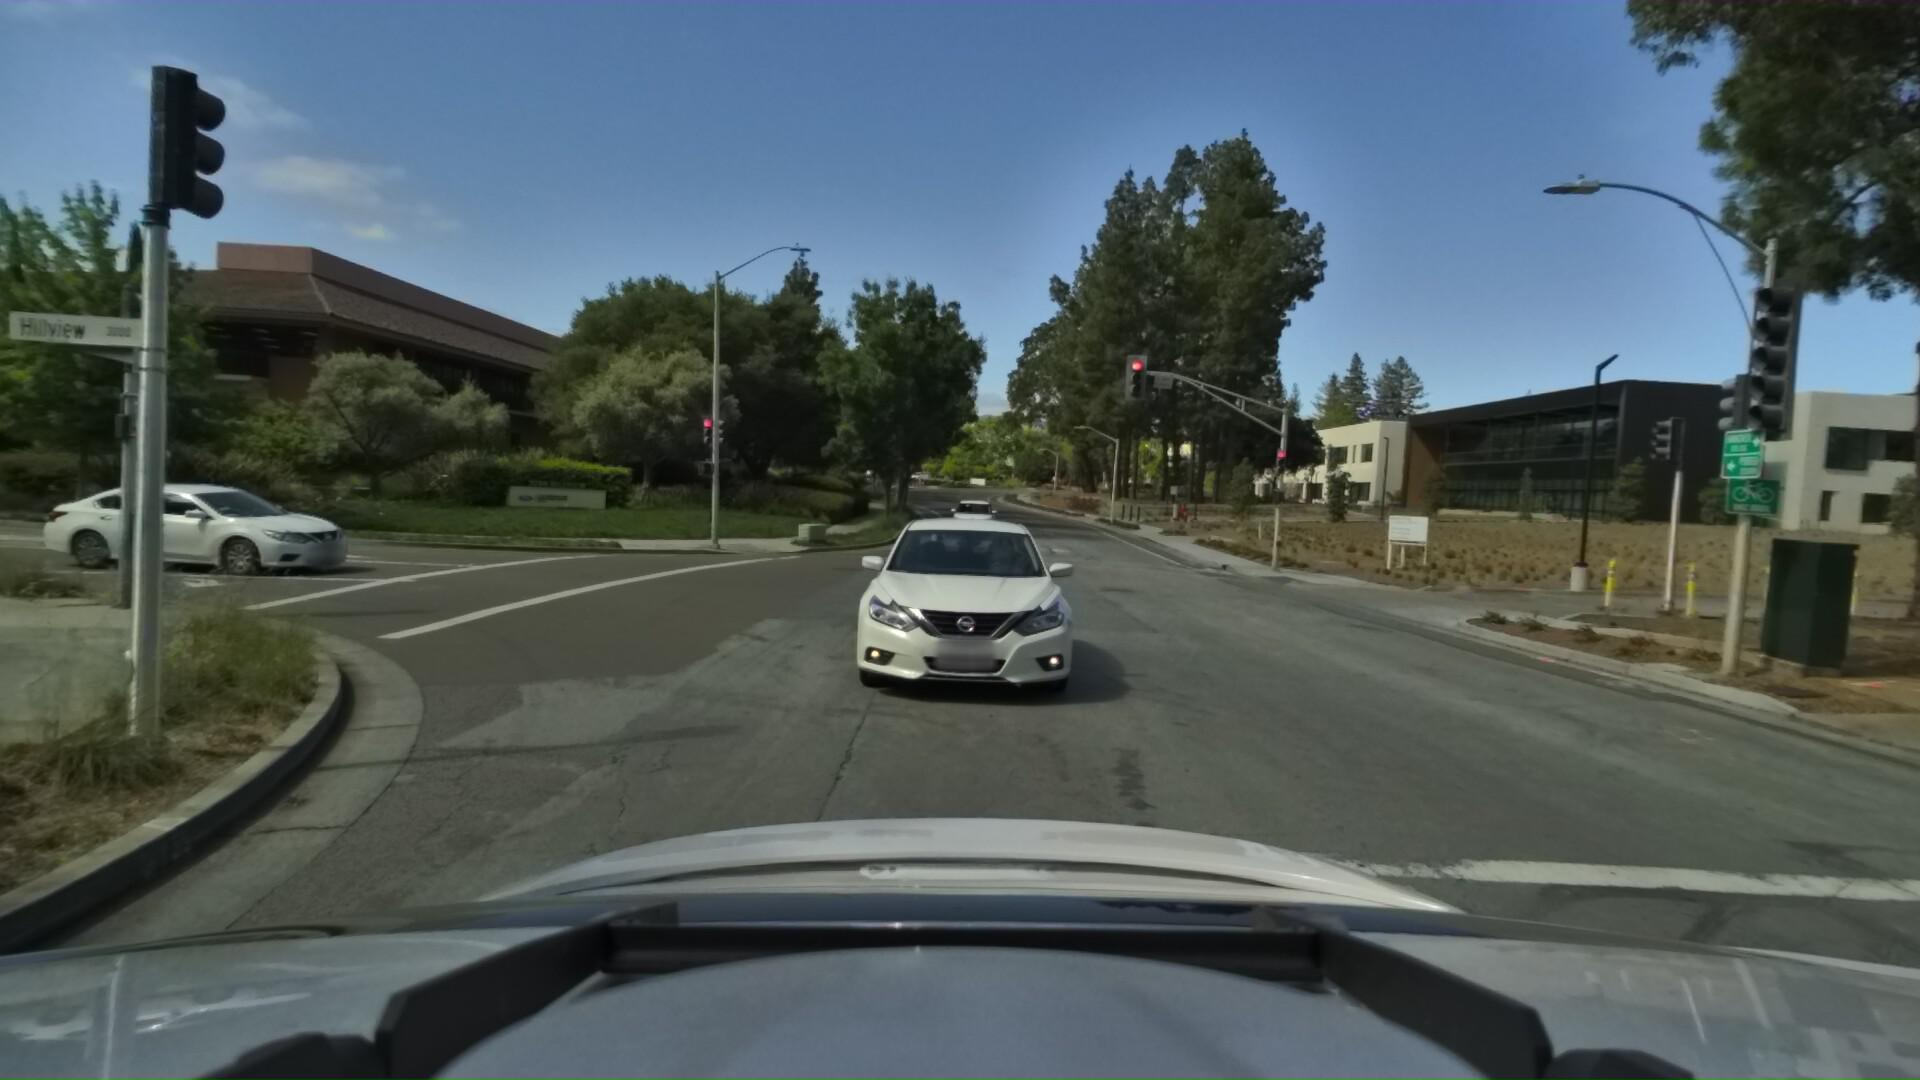car: (818, 483, 1097, 728), (45, 465, 372, 579), (939, 493, 997, 542)
